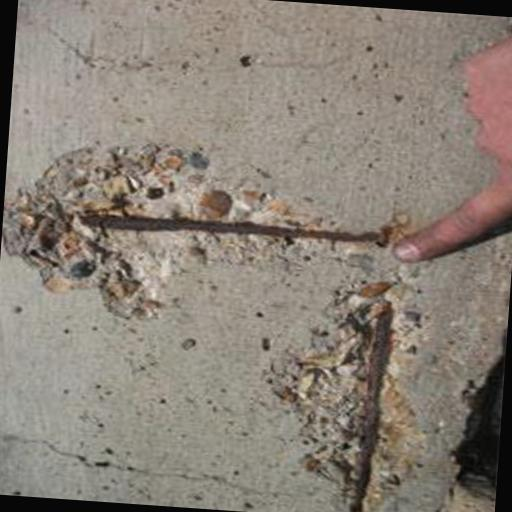spalling: (5, 138, 427, 512)
